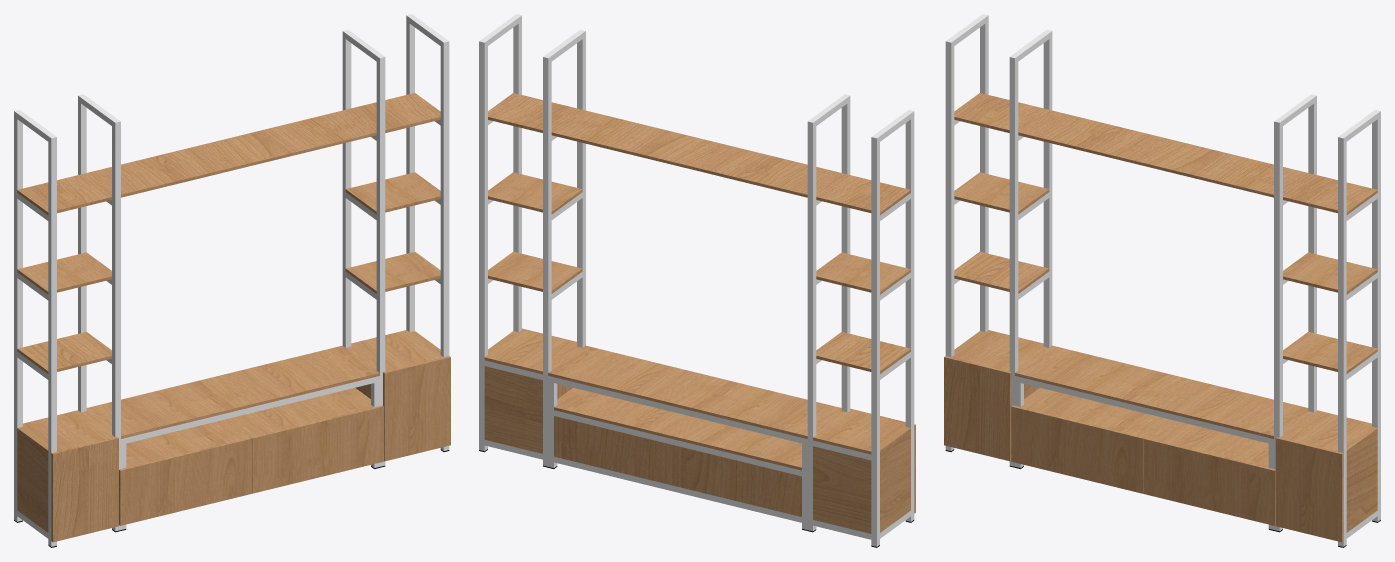
The model's file is Rack-TV-v1_Modelado.glb.
3 renders of one model, left to right at view 1: azimuth 30°, elevation 25°; view 2: azimuth 150°, elevation 25°; view 3: azimuth 330°, elevation 25°, orthographic.
Parts seen in each view (by area): view 1: SketchUp.042; view 2: SketchUp.042; view 3: SketchUp.042.
Part boxes in pixels (x1=…): SketchUp.042: x1=14, y1=14, x2=450, y2=547; SketchUp.042: x1=479, y1=14, x2=915, y2=547; SketchUp.042: x1=944, y1=14, x2=1380, y2=547.
Size of the model in its own units: 2.15 by 2.12 by 0.365.
Materials: 3 (1 with a texture image).
